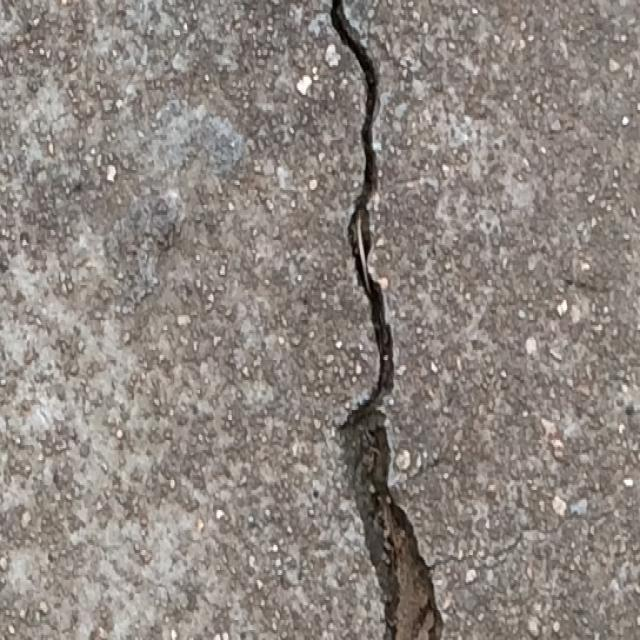Longitudinal: (324, 0, 447, 640)
